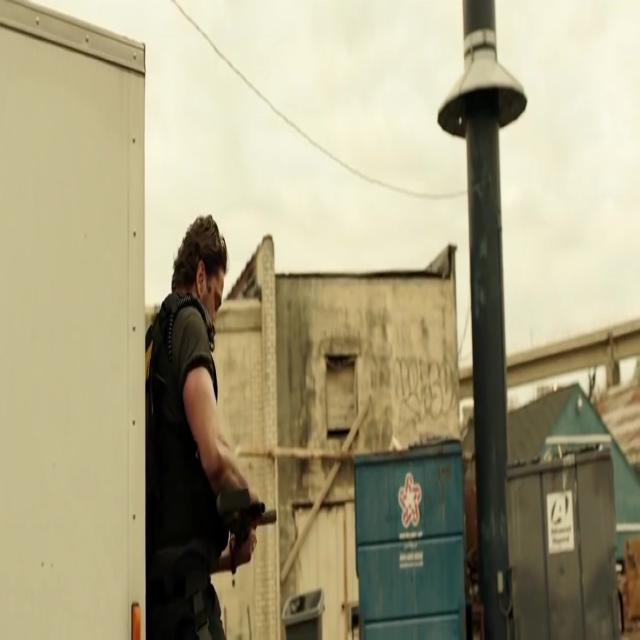Weapon: (214, 453, 293, 595)
